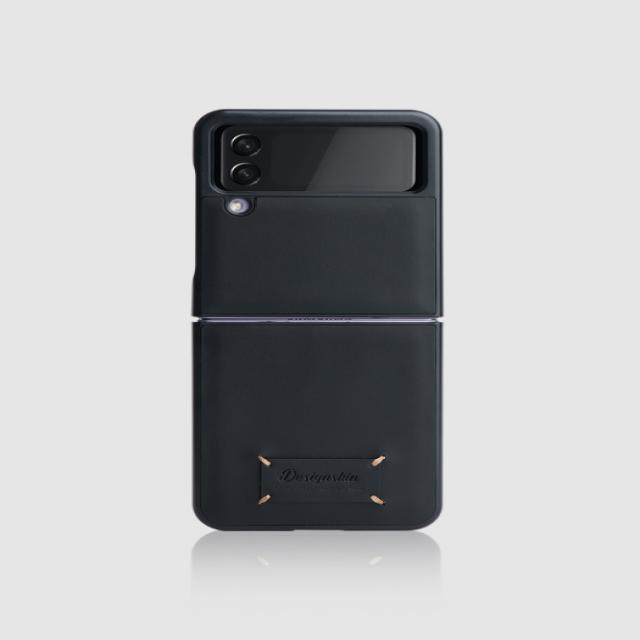phone: (191, 108, 444, 532)
